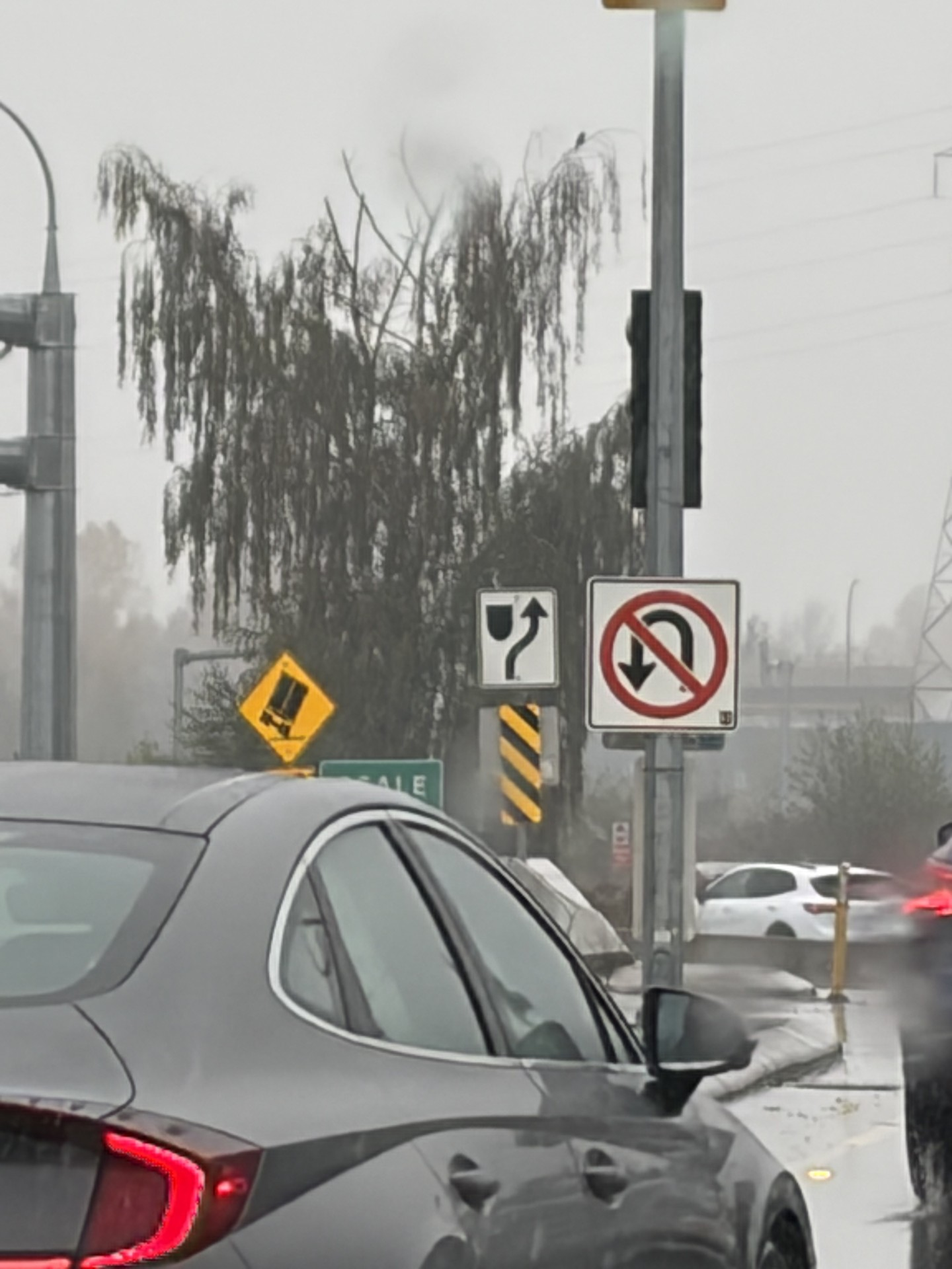keep_right: (440, 544, 582, 716)
